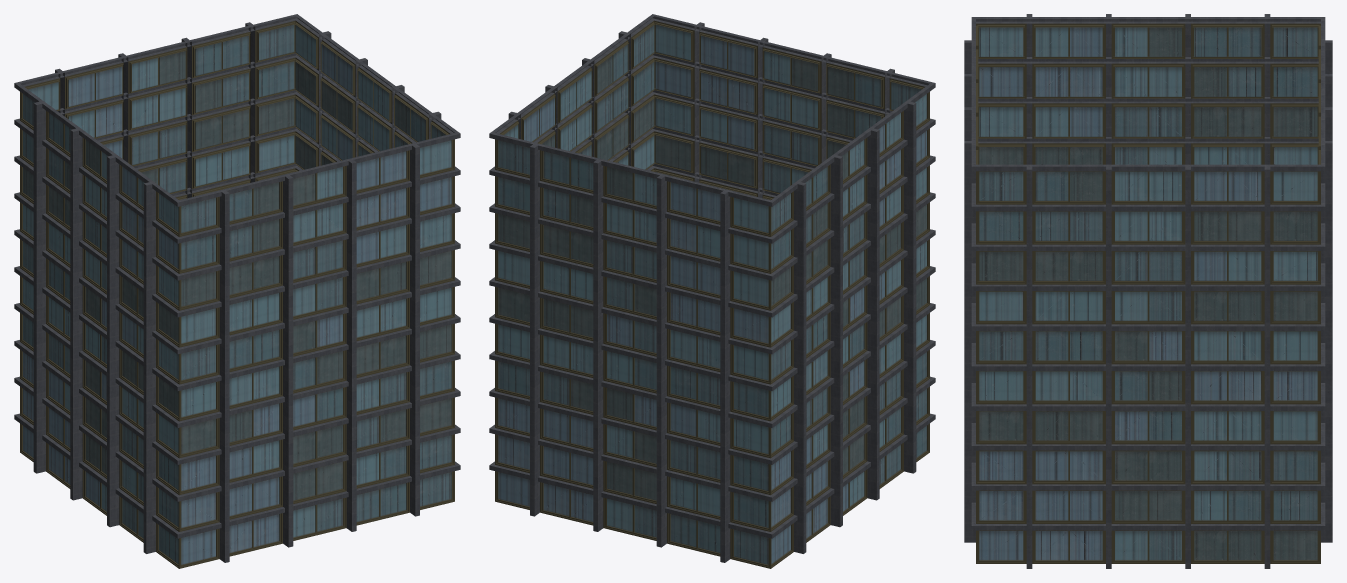
File: jctBld24_A_mdl.fbx
3 views of the same model, side by side, from view 1: azimuth 30°, elevation 25°; view 2: azimuth 150°, elevation 25°; view 3: azimuth 270°, elevation 25° (orthographic). The views are drawn at different scales.
Parts seen in each view (by area): view 1: jctBld24_A_mdl_LOD0; view 2: jctBld24_A_mdl_LOD0; view 3: jctBld24_A_mdl_LOD0.
Boxes of the visible parts, x1,y1,x2,y2 form: jctBld24_A_mdl_LOD0: (14,14,460,568); jctBld24_A_mdl_LOD0: (489,14,935,568); jctBld24_A_mdl_LOD0: (964,14,1332,568).
Size of the model in its own units: 2510 by 3000 by 2510.
